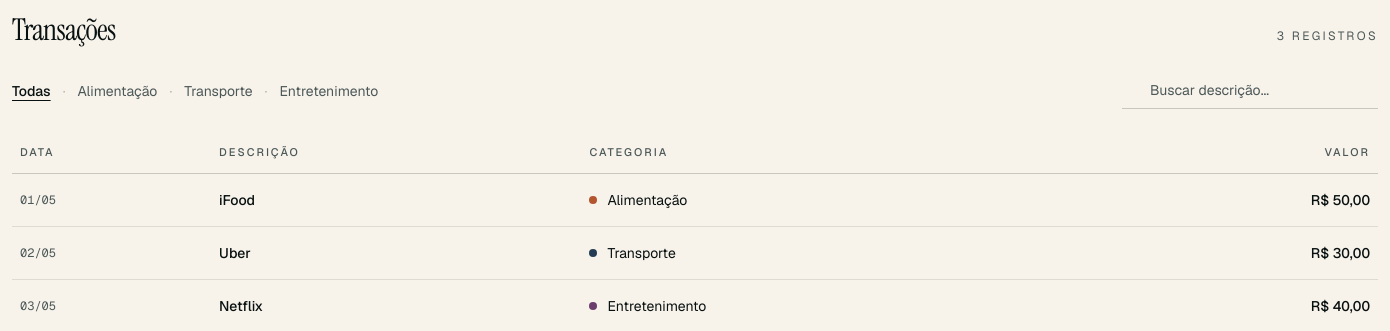
Test case: shows empty state when search has no results
In the field with placeholder "Buscar descrição...": (1250, 90) top-left (1122, 72), bottom-right (1378, 109), type "xyz_nao_existe"
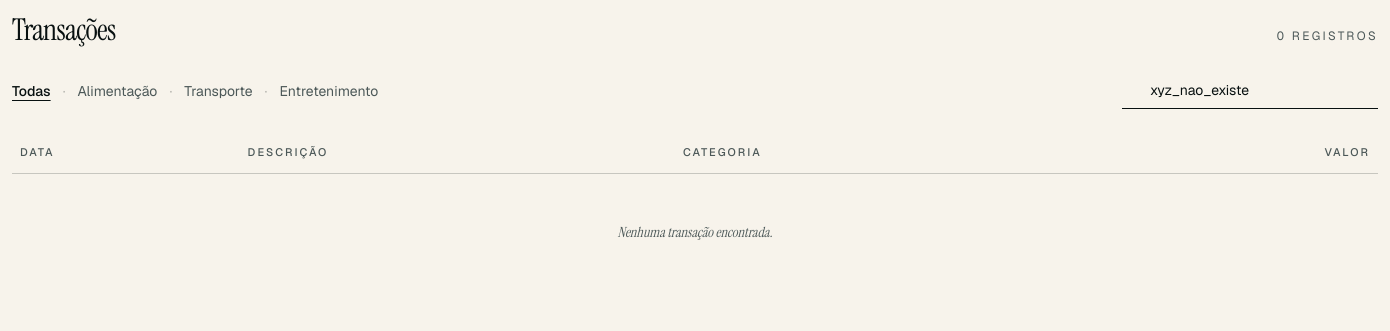
Now the text "Nenhuma transação encontrada." is shown, box top-left (12, 173), bottom-right (1378, 290)
